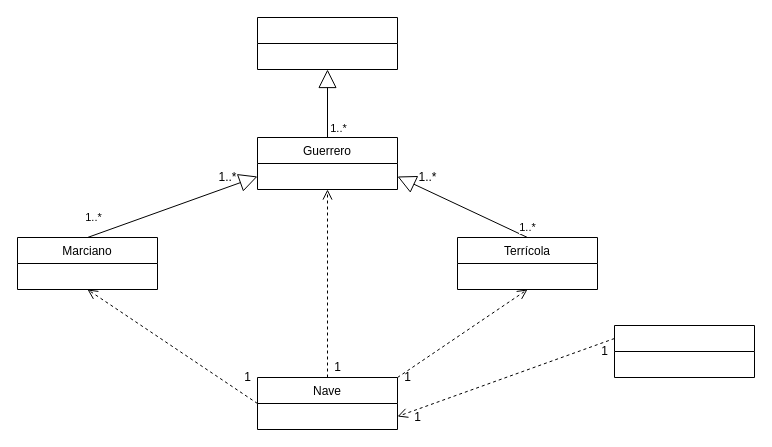
Some shapes in this 772 by 447 pixel diagram are drawn without their labels. The shapes that lost their labels are listed below. From the top down, each one's centre as x and y in pixels, then its label:
At [327,43]: "Ser vivo".
At [684,351]: "Guerra".
